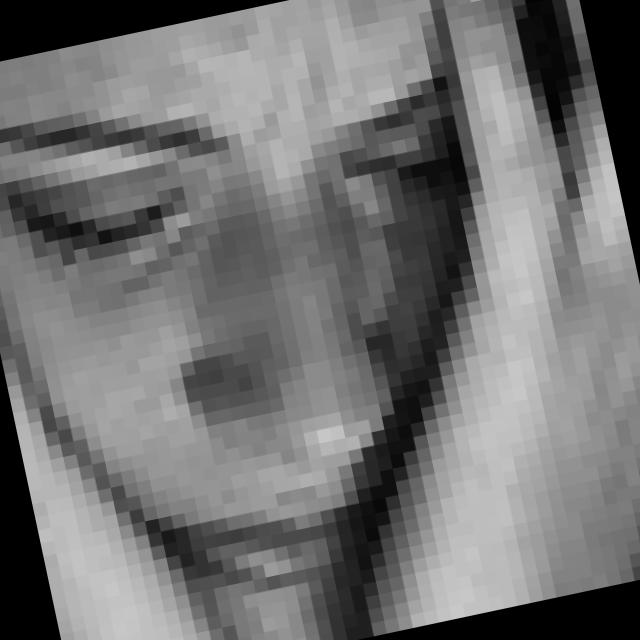sad: (0, 14, 545, 640)
